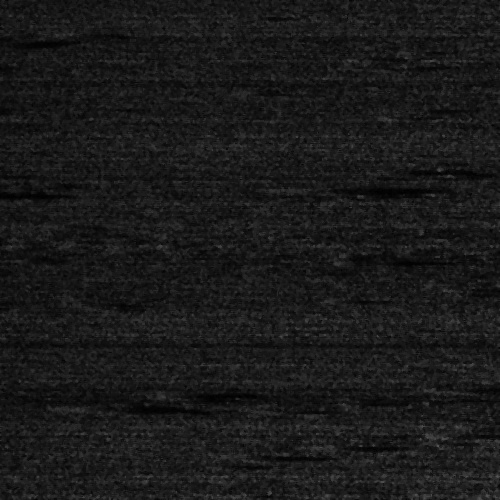object: (403, 383, 476, 392), (279, 184, 352, 193), (431, 428, 500, 435), (142, 389, 195, 398), (316, 442, 369, 447), (196, 452, 249, 457)
shadow: (316, 184, 435, 193), (169, 389, 254, 398), (0, 185, 66, 194), (439, 383, 500, 392), (343, 442, 442, 447), (223, 452, 312, 457), (478, 428, 500, 435), (0, 233, 15, 236)
